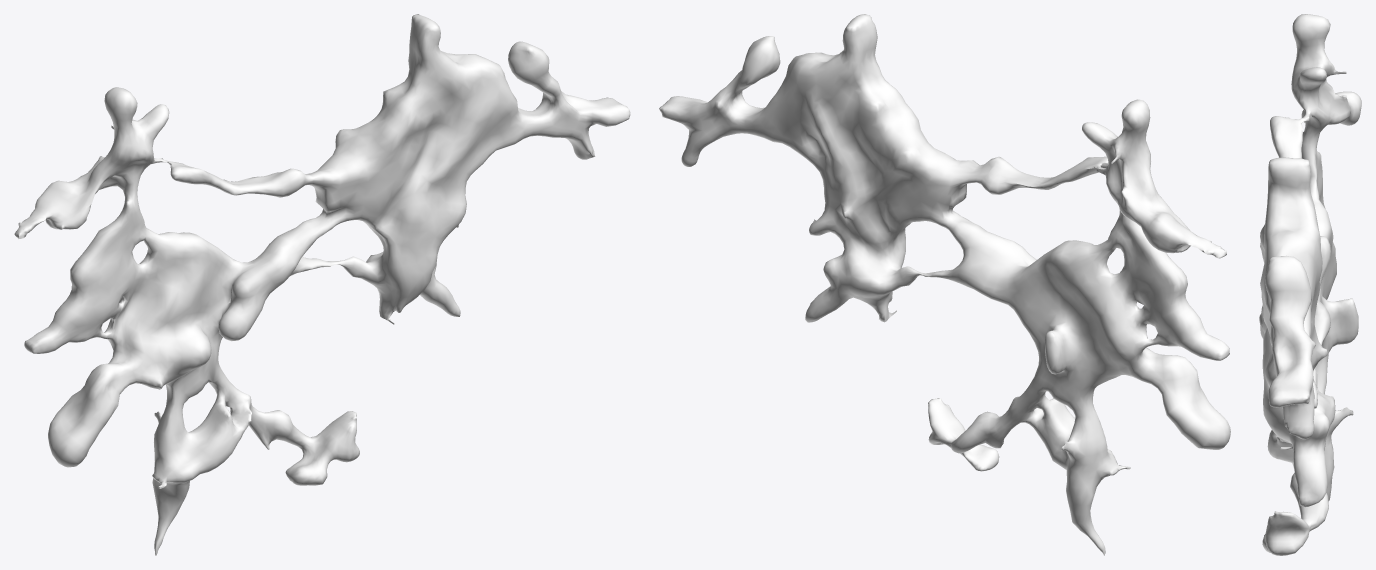
Rendered from website_3d_terrex_stone.glb.
The picture shows the model from 3 angles, left to right: view 1: azimuth 30°, elevation 25°; view 2: azimuth 150°, elevation 25°; view 3: azimuth 270°, elevation 25°; orthographic projection. The views are drawn at different scales.
Parts seen in each view (by area): view 1: terrex_stone; view 2: terrex_stone; view 3: terrex_stone.
Part boxes in pixels (x1,y1,x2,y2): terrex_stone: (14, 14, 630, 555); terrex_stone: (659, 14, 1230, 555); terrex_stone: (1259, 14, 1361, 555).
Size of the model in its own units: 2.14 by 1.66 by 0.3072.
Materials: 1 (1 with a texture image).
